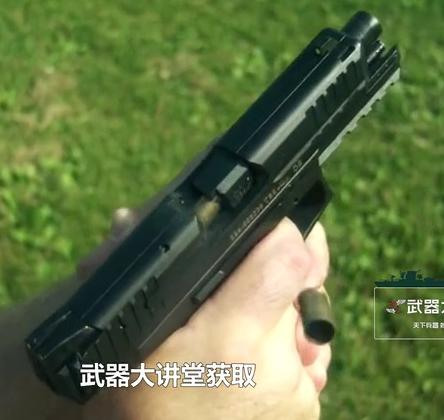gun: (1, 1, 444, 420)
